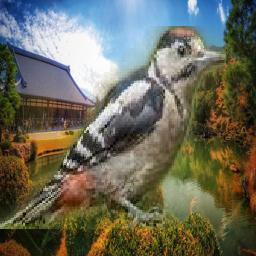Woodpecker: (0, 27, 226, 230)
